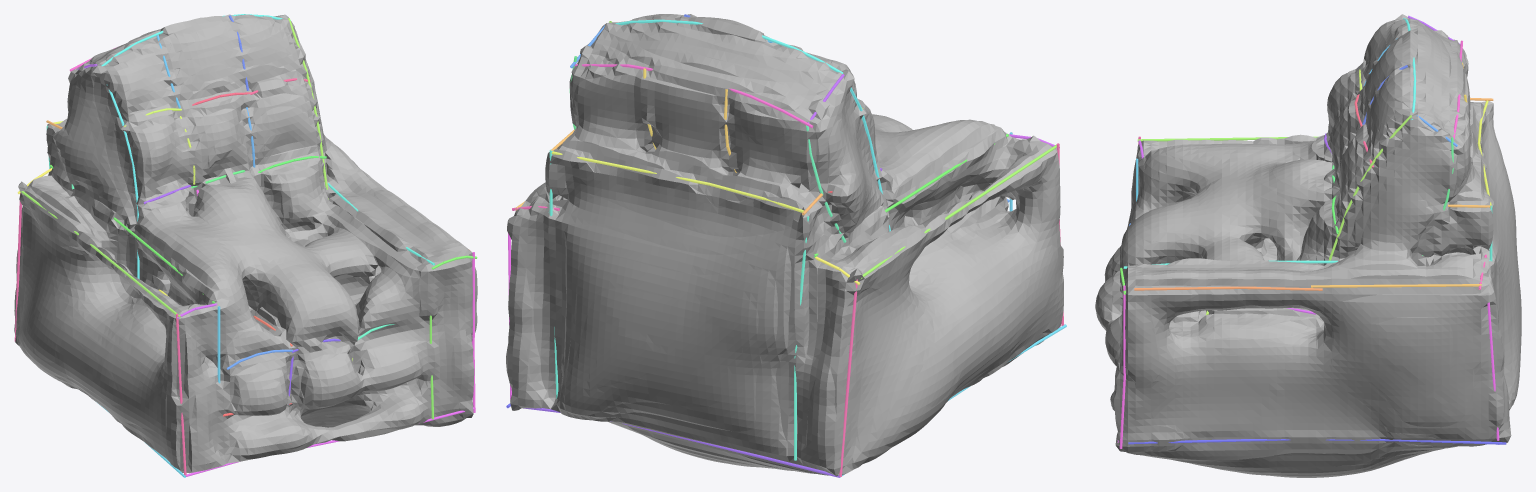
Rendered from author2_sofa.gltf.
3 views of the same model, side by side, from view 1: azimuth 30°, elevation 25°; view 2: azimuth 150°, elevation 25°; view 3: azimuth 270°, elevation 25° (orthographic). The views are drawn at different scales.
Size of the model in its own units: 0.594 by 0.6783 by 0.6703.
